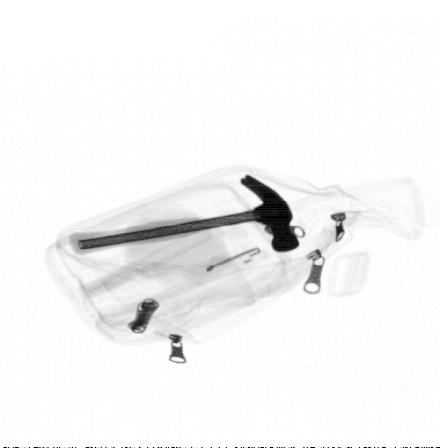Hammer: (69, 173, 301, 255)
